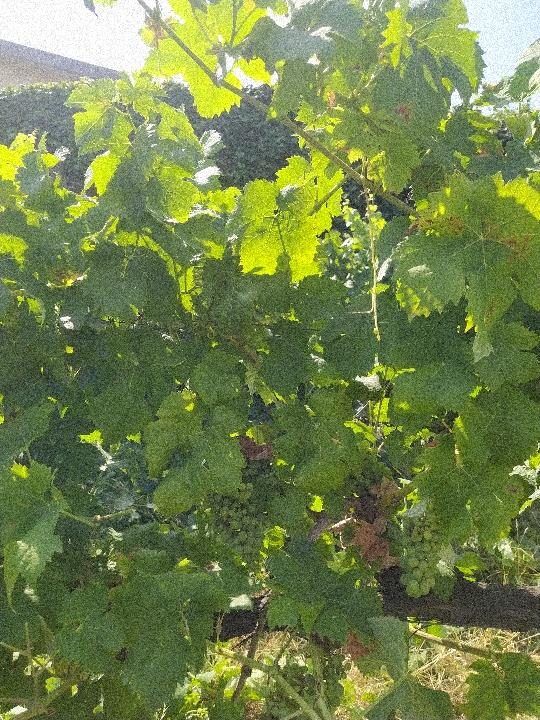grape: (202, 480, 275, 575), (396, 505, 447, 601)
